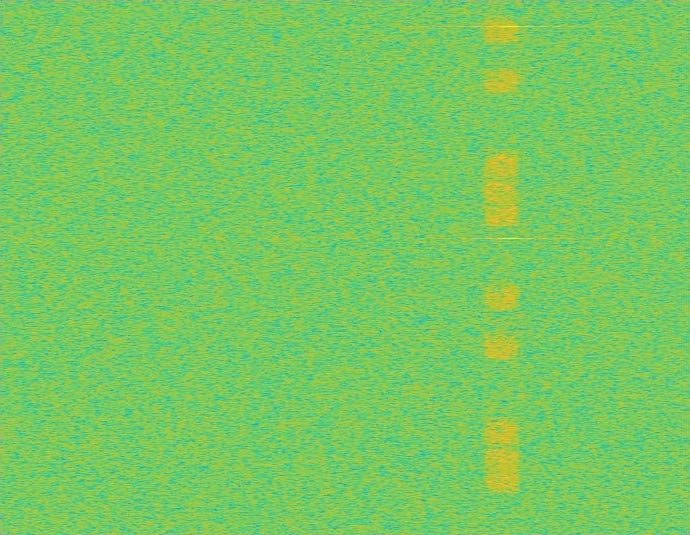LTE: (484, 0, 519, 534)
Radar: (503, 0, 517, 534)
